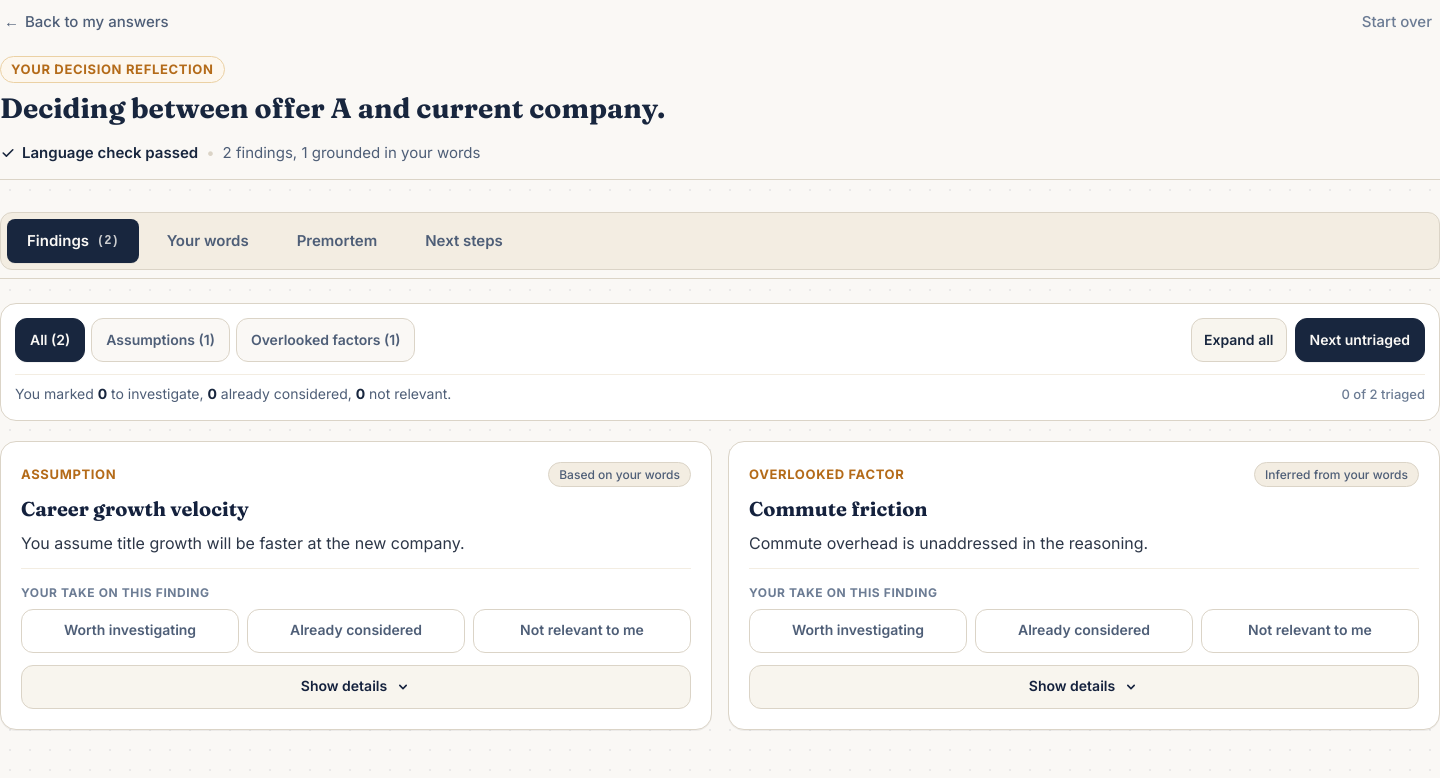
Phase 9: Results Redesign & Reliability Integration › Next Steps Checklist & Empty State › renders numbered <ol> checklist with finding titles for items marked 'Worth investigating'
# Mark f1 as Worth investigating
Click the button "Worth investigating" below "Career growth velocity": (130, 631) [21,609,239,653]
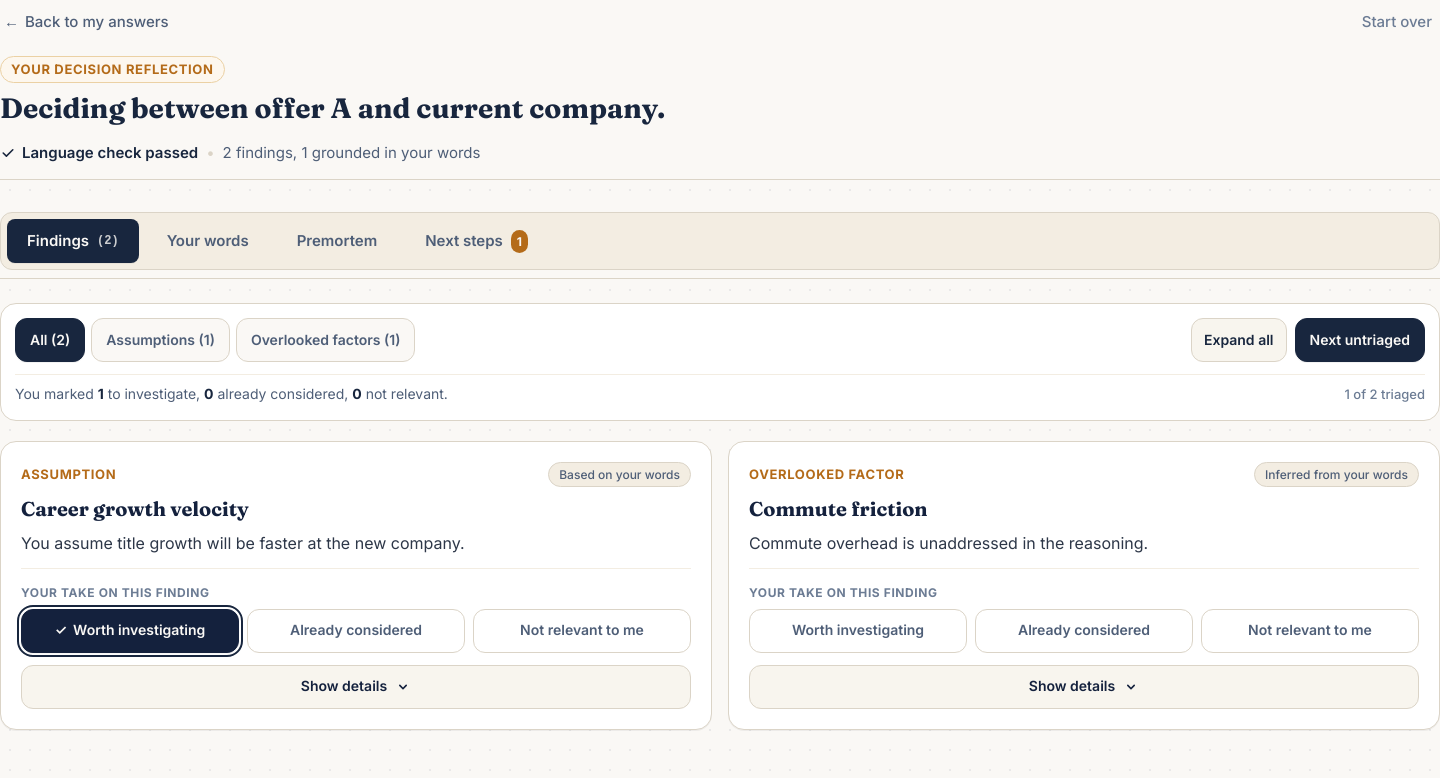
# Navigate to Next steps tab
Click the tab "Next steps 1": (477, 241) [405,219,548,263]
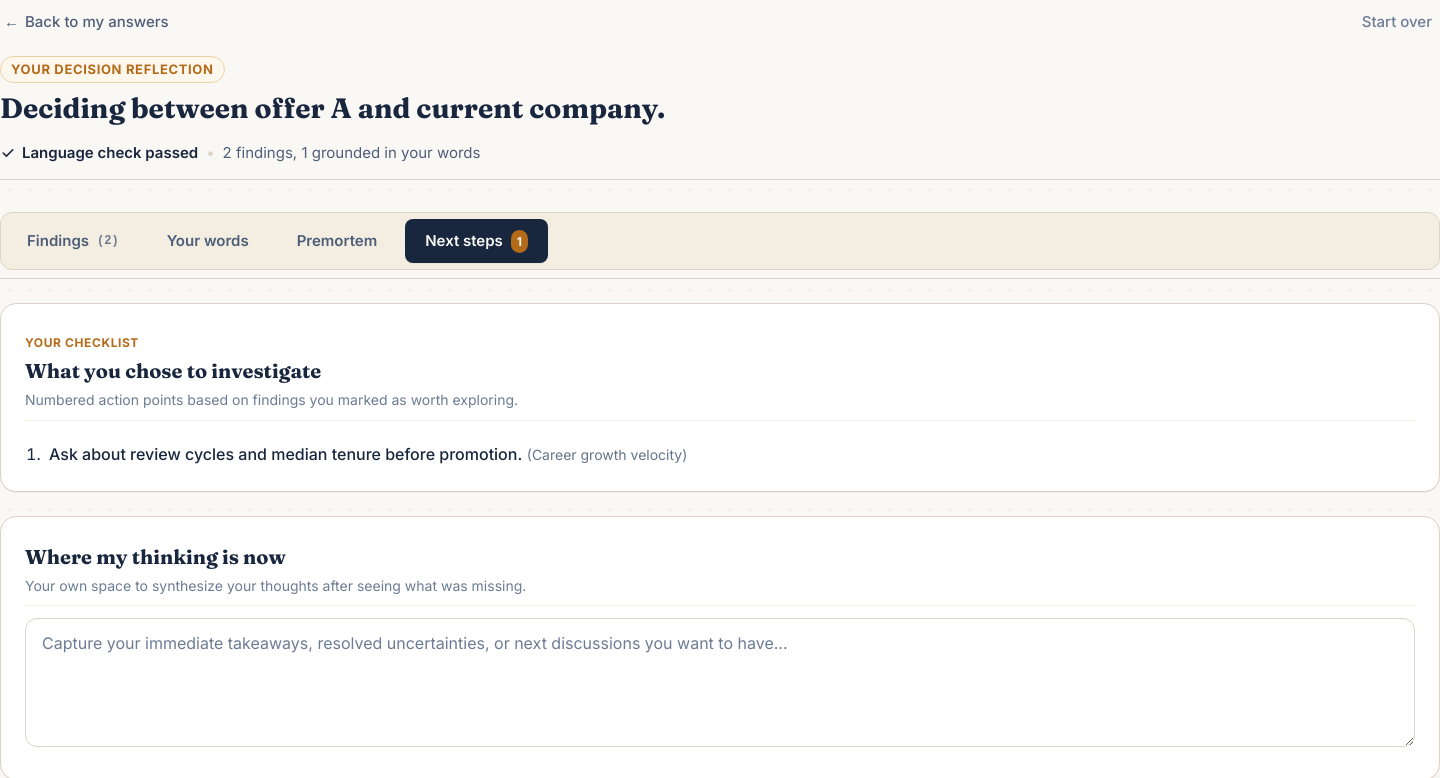
Expected: the text "Ask about review cycles and median tenure before promotion." is shown, [49,444,522,464]
Expected: the text "(Career growth velocity)" is shown, [527,446,687,463]
